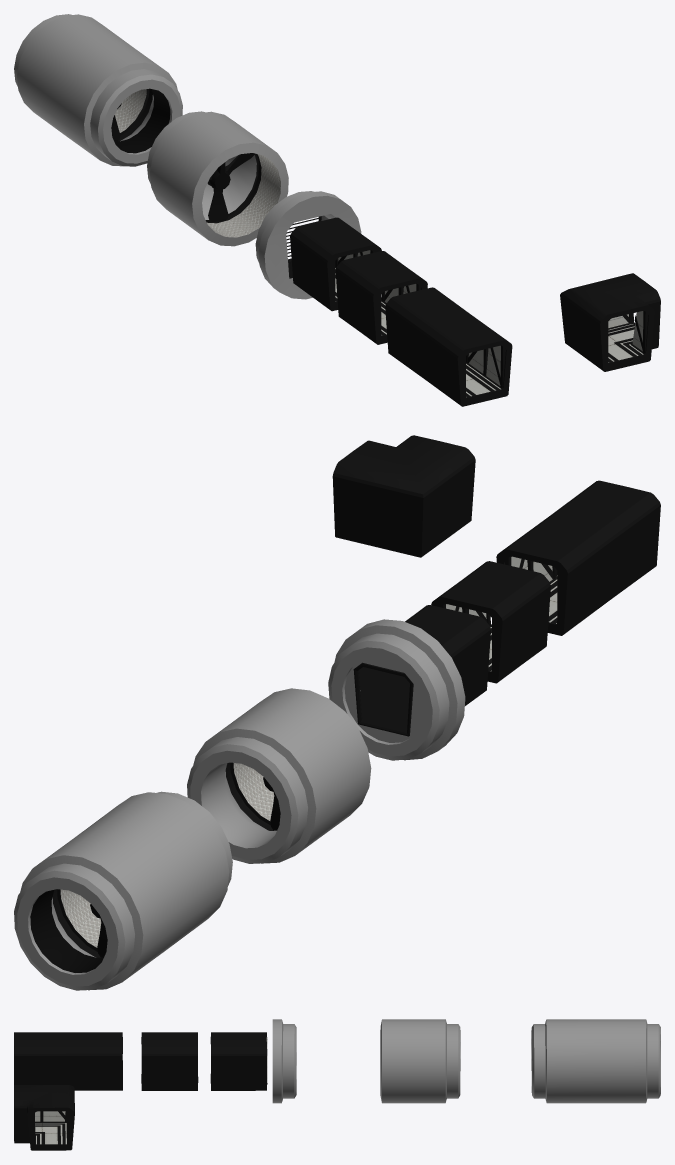
File: Tunnels.FBX
3 renders of one model, top to bottom at view 1: azimuth 30°, elevation 25°; view 2: azimuth 150°, elevation 25°; view 3: azimuth 270°, elevation 25°, orthographic. The views are drawn at different scales.
Visible parts, largest first — view 1: Ending010, Ending009, Tunnel02, Tunnel03, Tunnel01, Tunnel00, Ending008, Cylinder026; view 2: Ending010, Ending009, Tunnel02, Tunnel03, Ending008, Tunnel01, Tunnel00, Rejilla; view 3: Ending010, Ending009, Tunnel02, Tunnel03, Tunnel00, Tunnel01, Ending008.
Part boxes in pixels (x1,y1,x2,y2): Ending010: [14, 14, 182, 166]; Ending009: [147, 111, 288, 246]; Tunnel02: [385, 287, 512, 406]; Tunnel03: [560, 273, 660, 371]; Tunnel01: [335, 251, 427, 344]; Tunnel00: [290, 217, 381, 311]; Ending008: [255, 191, 361, 299]; Cylinder026: [208, 153, 254, 221]; Ending010: [14, 791, 232, 990]; Ending009: [187, 688, 371, 863]; Tunnel02: [496, 480, 660, 635]; Tunnel03: [332, 435, 475, 557]; Ending008: [328, 619, 465, 760]; Tunnel01: [431, 561, 550, 683]; Tunnel00: [405, 605, 490, 705]; Rejilla: [353, 662, 413, 736]; Ending010: [531, 1019, 660, 1103]; Ending009: [380, 1019, 460, 1103]; Tunnel02: [14, 1032, 122, 1090]; Tunnel03: [14, 1085, 74, 1150]; Tunnel00: [210, 1032, 267, 1090]; Tunnel01: [141, 1032, 198, 1090]; Ending008: [272, 1019, 296, 1103].
Size of the model in its own units: 475 by 1512 by 196.
Materials: 5 (2 with a texture image).
